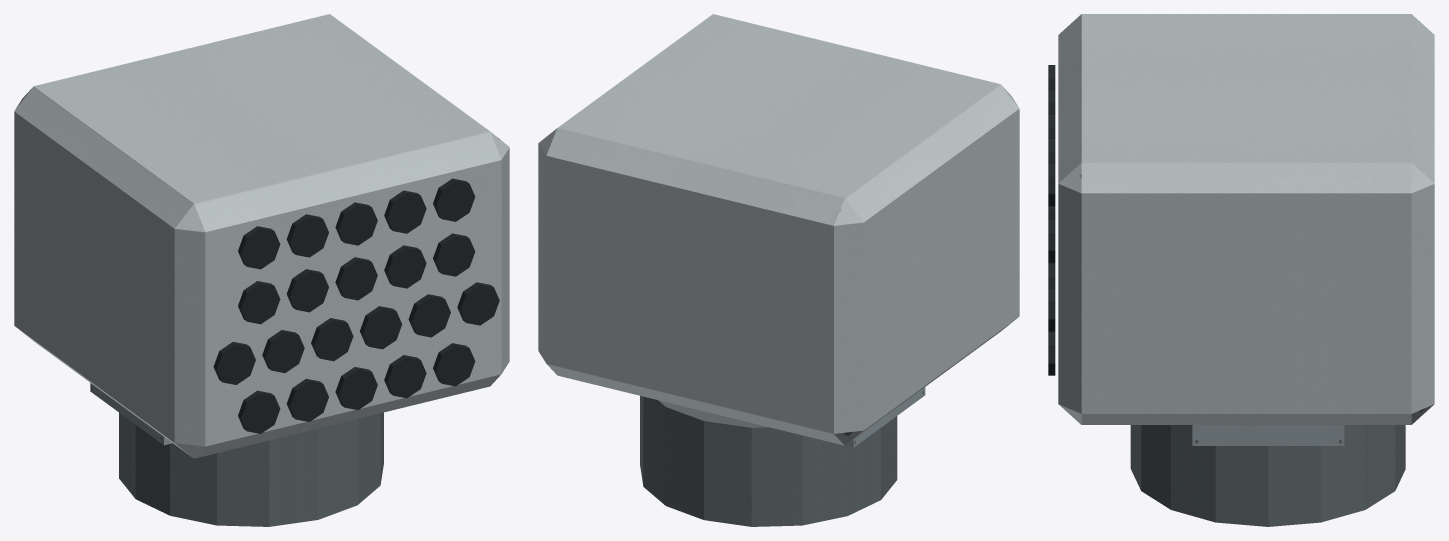
The model's file is mount_f124_ram.glb.
The picture shows the model from 3 angles, left to right: view 1: azimuth 30°, elevation 25°; view 2: azimuth 150°, elevation 25°; view 3: azimuth 270°, elevation 25°; orthographic projection. The views are drawn at different scales.
Parts seen in each view (by area): view 1: MESH_F124_TEMPLATE_ram_F124_PaintedSteel_UV; view 2: MESH_F124_TEMPLATE_ram_F124_PaintedSteel_UV; view 3: MESH_F124_TEMPLATE_ram_F124_PaintedSteel_UV.
Part boxes in pixels (x1,y1,x2,y2): MESH_F124_TEMPLATE_ram_F124_PaintedSteel_UV: (14,14,509,526); MESH_F124_TEMPLATE_ram_F124_PaintedSteel_UV: (538,14,1019,526); MESH_F124_TEMPLATE_ram_F124_PaintedSteel_UV: (1048,14,1434,526).
Size of the model in its own units: 192 by 203 by 187.
1 material, 1 textured.
